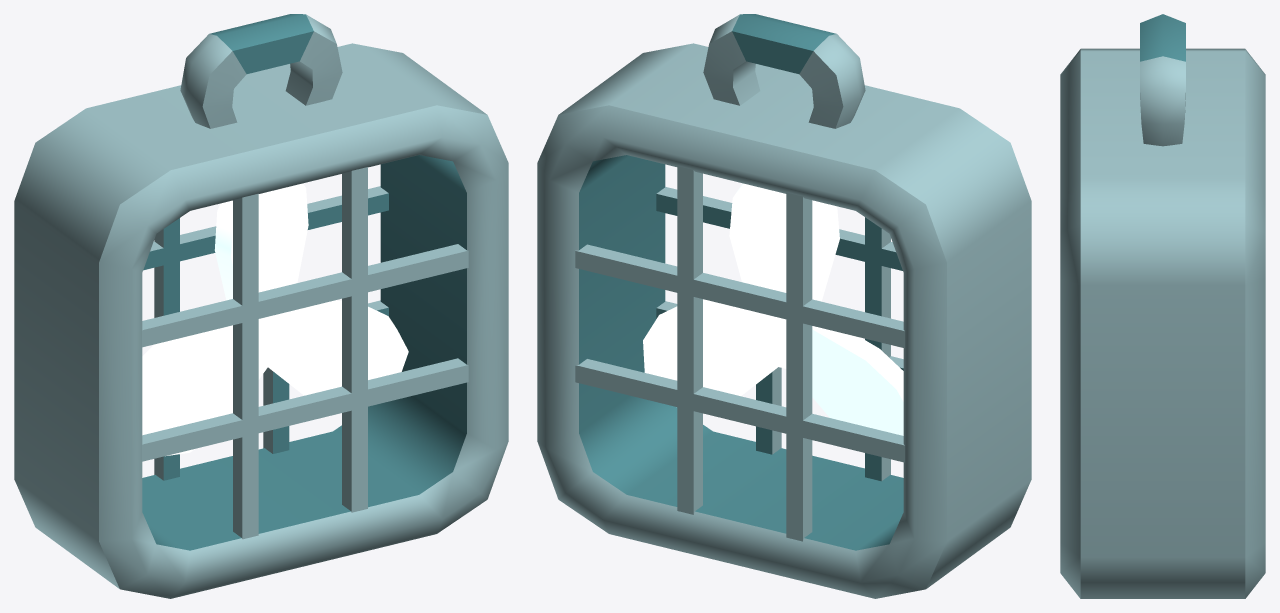
The model's file is app_boxFan.fbx.
The picture shows the model from 3 angles, left to right: view 1: azimuth 30°, elevation 25°; view 2: azimuth 150°, elevation 25°; view 3: azimuth 270°, elevation 25°; orthographic projection. The views are drawn at different scales.
Visible parts, largest first — view 1: boxFan_body, boxFan_fan; view 2: boxFan_body, boxFan_fan; view 3: boxFan_body.
Part boxes in pixels (box(x1,y1,x2,y2)): boxFan_body: box(14, 14, 508, 598); boxFan_fan: box(142, 183, 408, 456); boxFan_body: box(537, 14, 1031, 598); boxFan_fan: box(643, 183, 903, 435); boxFan_body: box(1060, 14, 1265, 598).
Size of the model in its own units: 45 by 53.59 by 20.
